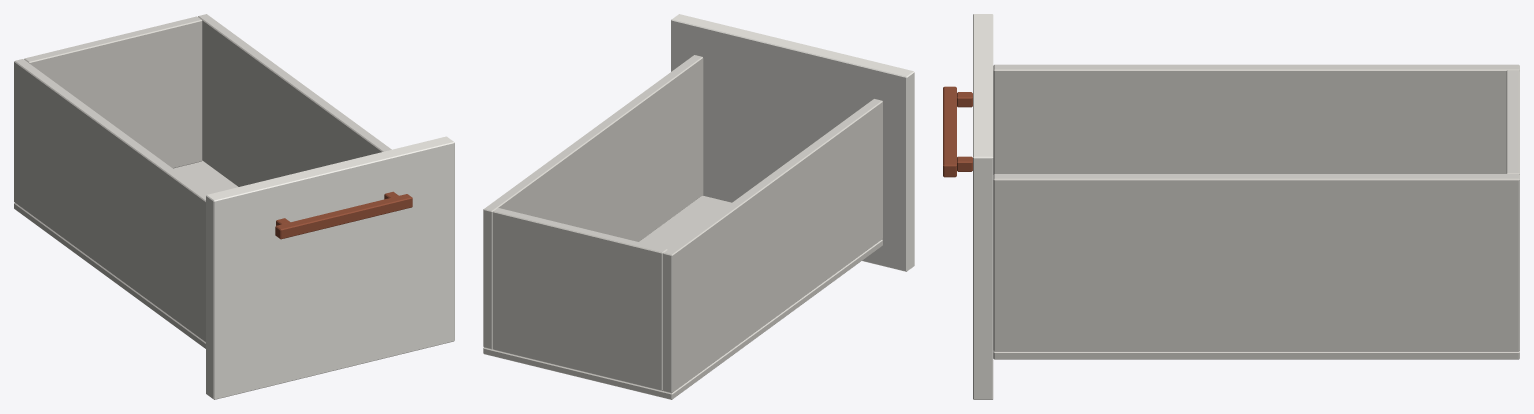
Rendered from kitchen_run_appliances_b5_middle_drawer.glb.
The picture shows the model from 3 angles, left to right: view 1: azimuth 30°, elevation 25°; view 2: azimuth 150°, elevation 25°; view 3: azimuth 270°, elevation 25°; orthographic projection. The views are drawn at different scales.
Visible parts, largest first — view 1: kitchen_run_appliances_b5_middle_drawer; view 2: kitchen_run_appliances_b5_middle_drawer; view 3: kitchen_run_appliances_b5_middle_drawer.
Part boxes in pixels (left/top/right/bottom): kitchen_run_appliances_b5_middle_drawer: left=14, top=14, right=454, bottom=399; kitchen_run_appliances_b5_middle_drawer: left=483, top=14, right=914, bottom=399; kitchen_run_appliances_b5_middle_drawer: left=943, top=14, right=1519, bottom=399.
Bounding box in the file's own units: 0.297 × 0.2346 × 0.504.
